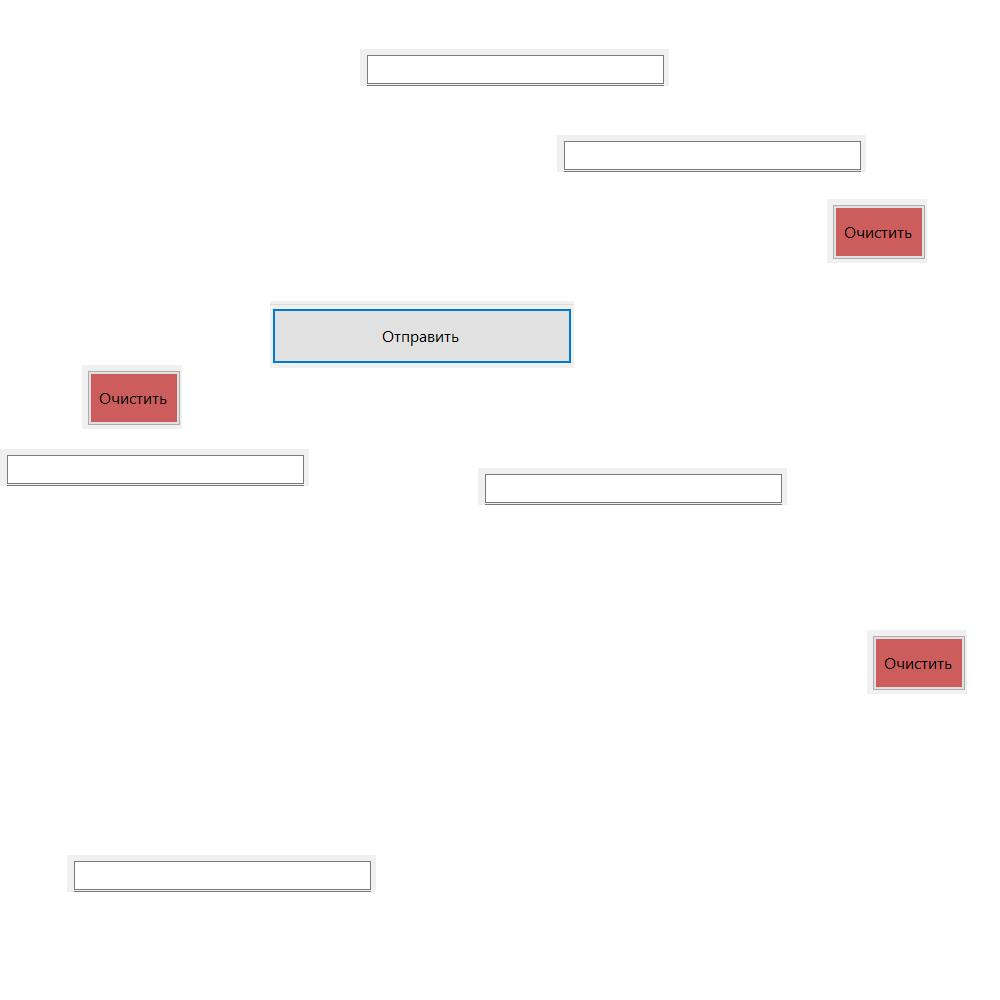Button: (270, 301, 574, 368), (82, 365, 182, 429), (827, 199, 927, 263), (867, 630, 967, 694)
EditText-: (557, 135, 866, 172), (478, 468, 787, 505), (67, 855, 376, 892), (360, 49, 669, 86), (0, 449, 309, 486)
